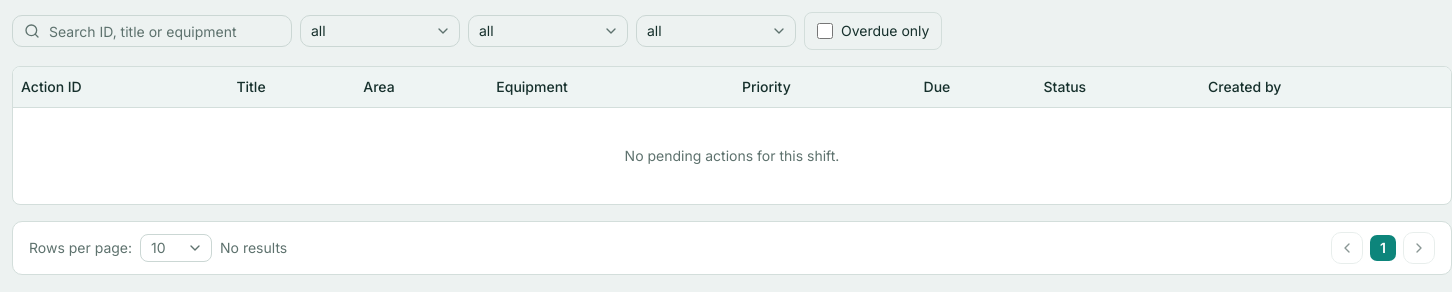
Test: ActionsTable › distinguishes 'nothing here' from 'nothing matches your filter'
Expected: the text "No pending actions for this shift." is shown, [13,108,1451,204]
In the search field named "Search actions": (152, 31) [12,15,292,47], type "nothing"
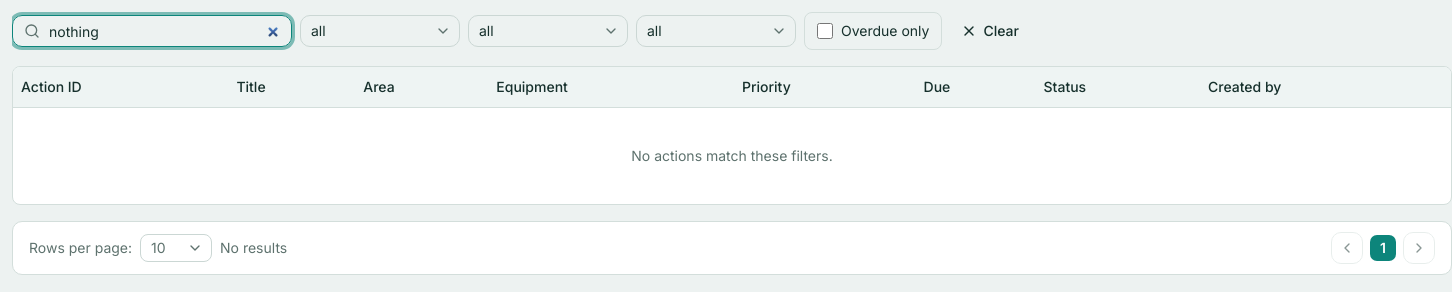
Expected: the text "No actions match these filters." is shown, [13,108,1451,204]
